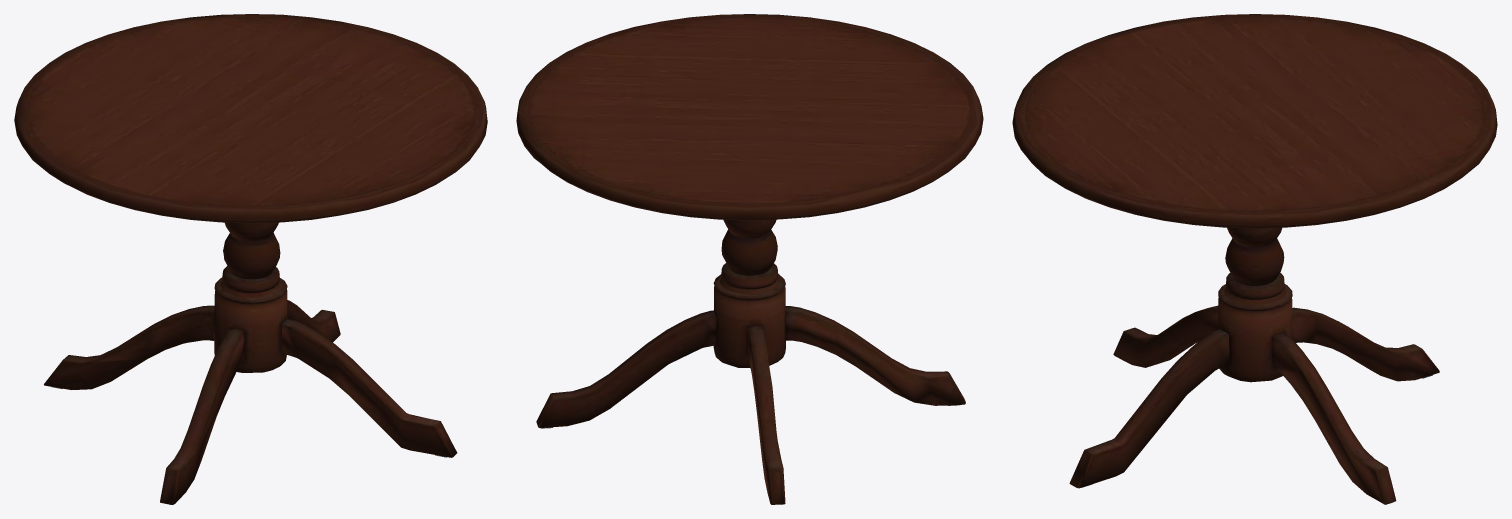
File: round_wooden_table_01.glb
3 renders of one model, left to right at view 1: azimuth 30°, elevation 25°; view 2: azimuth 150°, elevation 25°; view 3: azimuth 270°, elevation 25°, orthographic. The views are drawn at different scales.
Visible parts, largest first — view 1: round_wooden_table_01; view 2: round_wooden_table_01; view 3: round_wooden_table_01.
Boxes of the visible parts, <box> form: round_wooden_table_01: <box>14,14,487,504</box>; round_wooden_table_01: <box>516,14,983,504</box>; round_wooden_table_01: <box>1012,14,1497,504</box>.
Size of the model in its own units: 1.4 by 1 by 1.4.
1 material, 1 textured.
